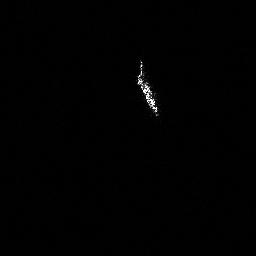ship: (135, 60, 161, 118)
